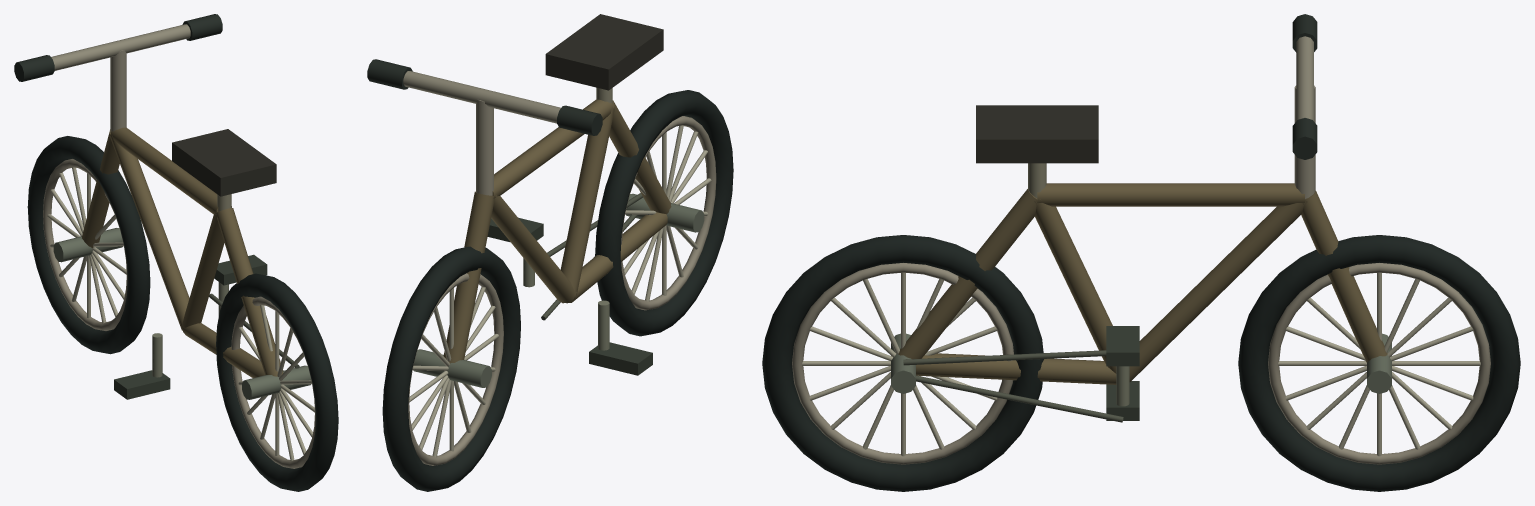
Rendered from bmx-native.glb.
The picture shows the model from 3 angles, left to right: view 1: azimuth 30°, elevation 25°; view 2: azimuth 150°, elevation 25°; view 3: azimuth 270°, elevation 25°; orthographic projection. The views are drawn at different scales.
Visible parts, largest first — view 1: _MeshInstance3D_26340, _MeshInstance3D_26320, BicyclePart, _MeshInstance3D_26363, _MeshInstance3D_26361, _MeshInstance3D_26362, _MeshInstance3D_26321, _MeshInstance3D_26367, _MeshInstance3D_26341, _MeshInstance3D_26360, _MeshInstance3D_26364, _MeshInstance3D_26359 (+8 smaller); view 2: _MeshInstance3D_26320, _MeshInstance3D_26340, BicyclePart, _MeshInstance3D_26360, _MeshInstance3D_26364, _MeshInstance3D_26341, _MeshInstance3D_26321, _MeshInstance3D_26367, _MeshInstance3D_26363, _MeshInstance3D_26362, _MeshInstance3D_26359, _MeshInstance3D_26361 (+8 smaller); view 3: _MeshInstance3D_26320, _MeshInstance3D_26340, BicyclePart, _MeshInstance3D_26321, _MeshInstance3D_26341, _MeshInstance3D_26362, _MeshInstance3D_26363, _MeshInstance3D_26361, _MeshInstance3D_26359, _MeshInstance3D_26364, _MeshInstance3D_26360, _MeshInstance3D_26367 (+8 smaller).
Part boxes in pixels (x1,y1,x2,y2): _MeshInstance3D_26340: (216,273,338,491); _MeshInstance3D_26320: (27,136,150,354); BicyclePart: (172,129,276,196); _MeshInstance3D_26363: (109,134,189,330); _MeshInstance3D_26361: (217,208,283,376); _MeshInstance3D_26362: (110,127,231,214); _MeshInstance3D_26321: (43,159,127,330); _MeshInstance3D_26367: (51,24,190,70); _MeshInstance3D_26341: (231,296,315,468); _MeshInstance3D_26360: (182,211,224,330); _MeshInstance3D_26364: (82,129,119,247); _MeshInstance3D_26359: (182,323,264,377); _MeshInstance3D_26320: (382,246,520,491); _MeshInstance3D_26340: (595,90,733,336); BicyclePart: (545,14,663,90); _MeshInstance3D_26360: (560,108,614,295); _MeshInstance3D_26364: (443,191,494,363); _MeshInstance3D_26341: (621,116,716,310); _MeshInstance3D_26321: (408,273,503,465); _MeshInstance3D_26367: (403,71,560,123); _MeshInstance3D_26363: (491,193,576,303); _MeshInstance3D_26362: (492,99,613,198); _MeshInstance3D_26359: (566,212,667,303); _MeshInstance3D_26361: (609,100,671,214); _MeshInstance3D_26320: (1238,235,1520,491); _MeshInstance3D_26340: (762,235,1043,491); BicyclePart: (976,105,1098,163); _MeshInstance3D_26321: (1268,263,1490,464); _MeshInstance3D_26341: (792,263,1013,464); _MeshInstance3D_26362: (1037,183,1304,206); _MeshInstance3D_26363: (1129,200,1307,381); _MeshInstance3D_26361: (898,189,1038,359); _MeshInstance3D_26359: (916,353,1116,384); _MeshInstance3D_26364: (1301,191,1387,362); _MeshInstance3D_26360: (1034,199,1116,373); _MeshInstance3D_26367: (1296,36,1313,120).
Size of the model in its own units: 0.78 by 1.24 by 2.04.
